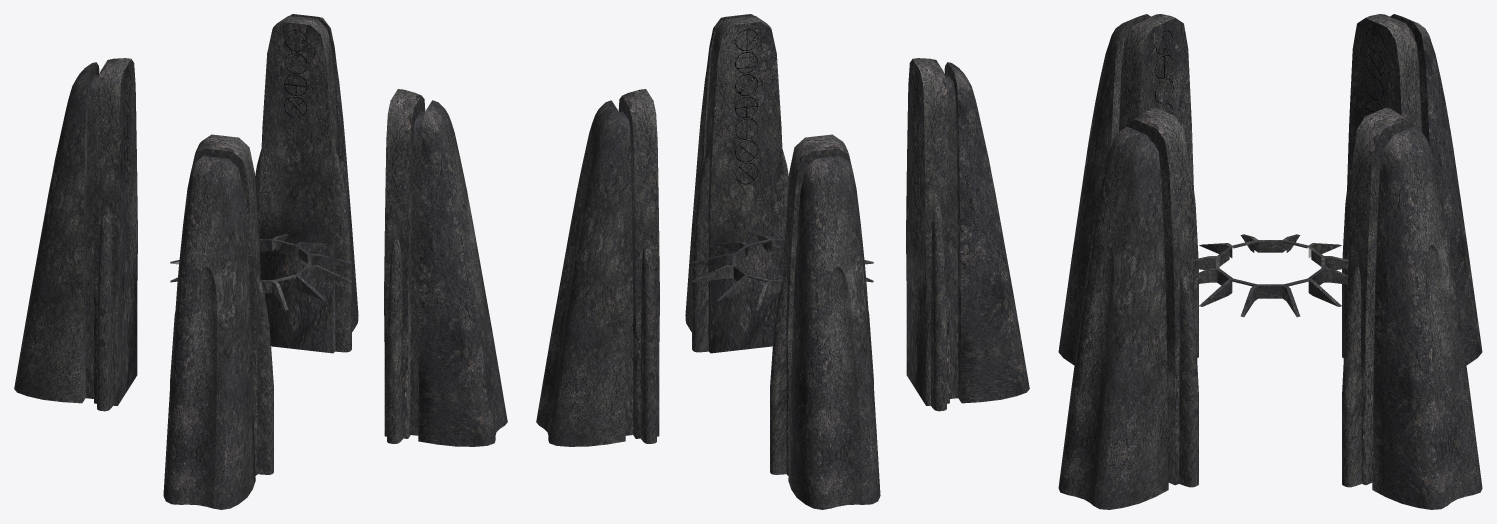
File: Pillars.obj
The picture shows the model from 3 angles, left to right: view 1: azimuth 30°, elevation 25°; view 2: azimuth 150°, elevation 25°; view 3: azimuth 270°, elevation 25°; orthographic projection. The views are drawn at different scales.
Parts seen in each view (by area): view 1: Pillar2_Pillar1_Pillars.007; view 2: Pillar2_Pillar1_Pillars.007; view 3: Pillar2_Pillar1_Pillars.007.
Part boxes in pixels (x1,y1,x2,y2): Pillar2_Pillar1_Pillars.007: [14, 14, 507, 509]; Pillar2_Pillar1_Pillars.007: [536, 14, 1029, 509]; Pillar2_Pillar1_Pillars.007: [1058, 14, 1482, 509].
Size of the model in its own units: 28.28 by 26 by 28.28.
